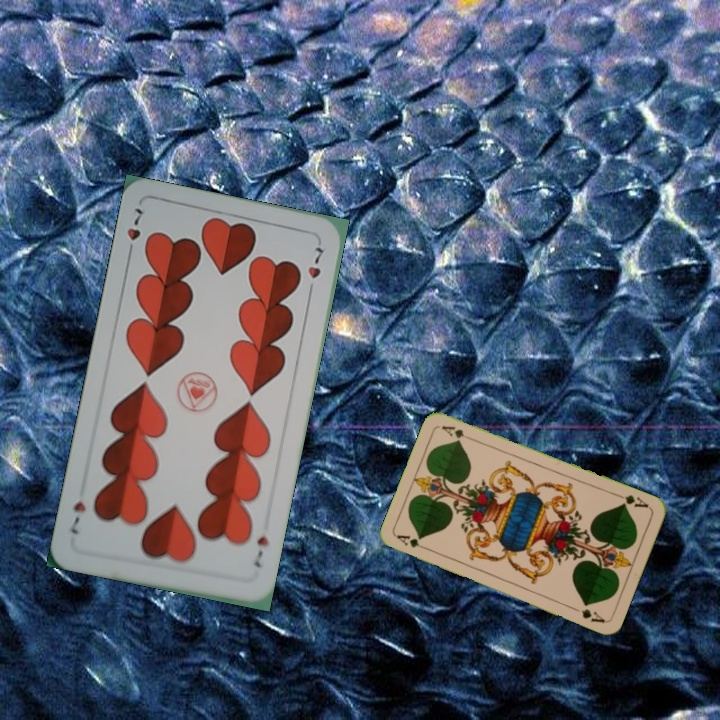GA: (393, 530, 432, 553), (613, 490, 651, 511)
H7: (121, 203, 145, 260), (249, 531, 271, 571)
